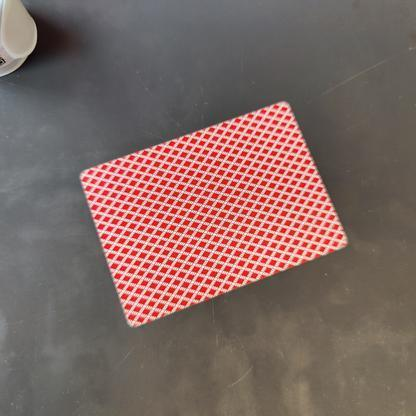card: (55, 89, 372, 337)
